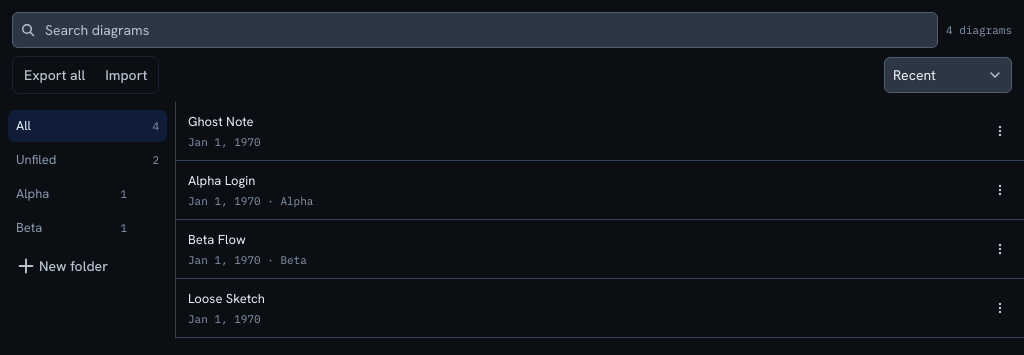
it: LibraryPanel › search filters by title (case-insensitive)
Type "beta" into the search field with test id "lib-search" at (475, 30), box left=12, top=12, right=938, bottom=48
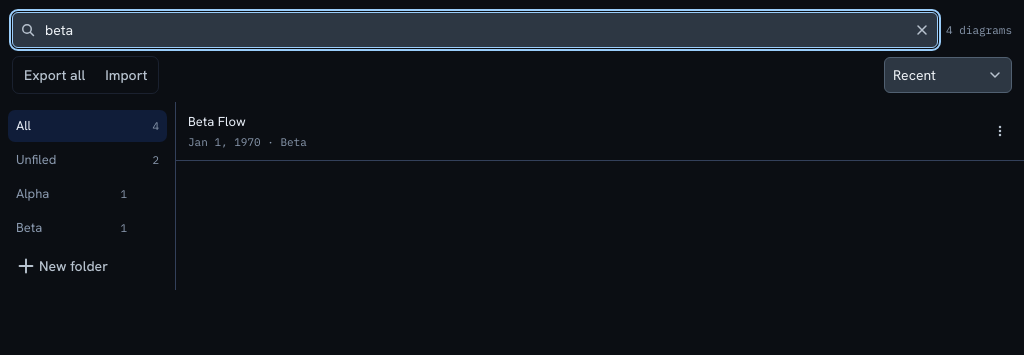
Expected: the button with test id "lib-row-i-beta" is shown, left=176, top=102, right=1023, bottom=161
Expected: the button with test id "lib-row-i-alpha" is gone
